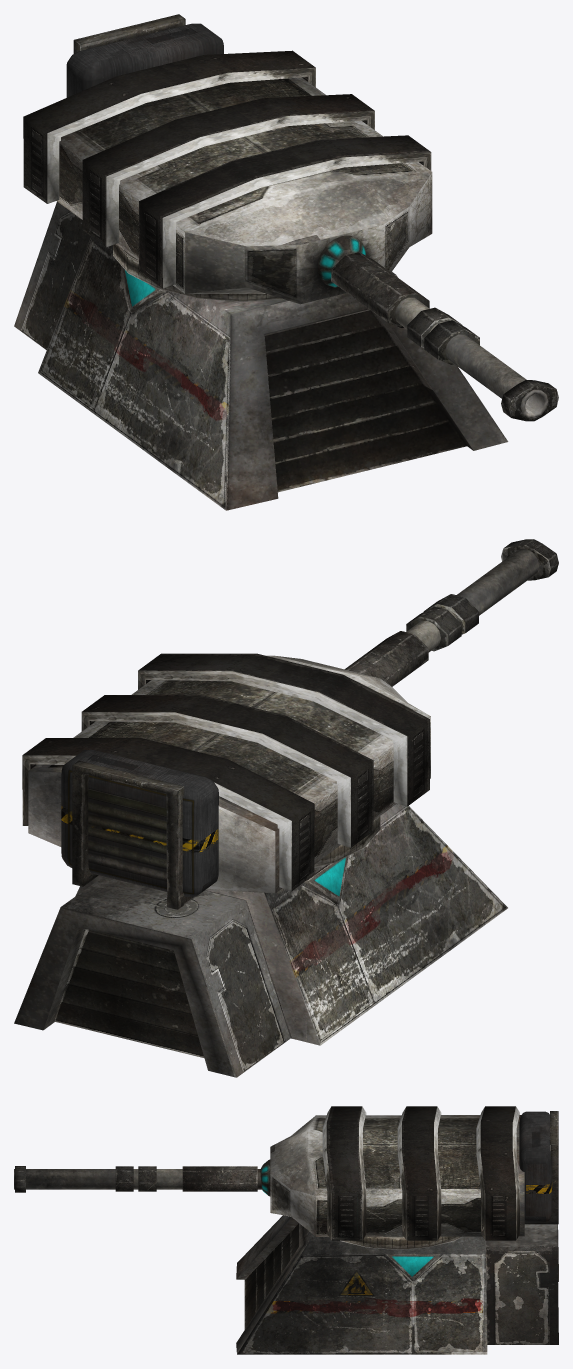
The model's file is Canon_flamethrower.obj.
The picture shows the model from 3 angles, top to bottom: view 1: azimuth 30°, elevation 25°; view 2: azimuth 150°, elevation 25°; view 3: azimuth 270°, elevation 25°; orthographic projection. The views are drawn at different scales.
Parts seen in each view (by area): view 1: Canon_flamethrower.obj; view 2: Canon_flamethrower.obj; view 3: Canon_flamethrower.obj.
Boxes of the visible parts, <box> form: Canon_flamethrower.obj: <box>14,14,558,510</box>; Canon_flamethrower.obj: <box>14,539,558,1077</box>; Canon_flamethrower.obj: <box>14,1106,558,1354</box>.
Size of the model in its own units: 1.49 by 1.37 by 3.75.
Materials: 1 (1 with a texture image).
